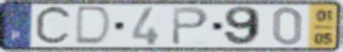0: (270, 6, 304, 48)
4: (130, 5, 161, 48)
9: (224, 5, 266, 48)
C: (33, 4, 75, 48)
D: (72, 5, 115, 47)
P: (170, 6, 211, 47)
